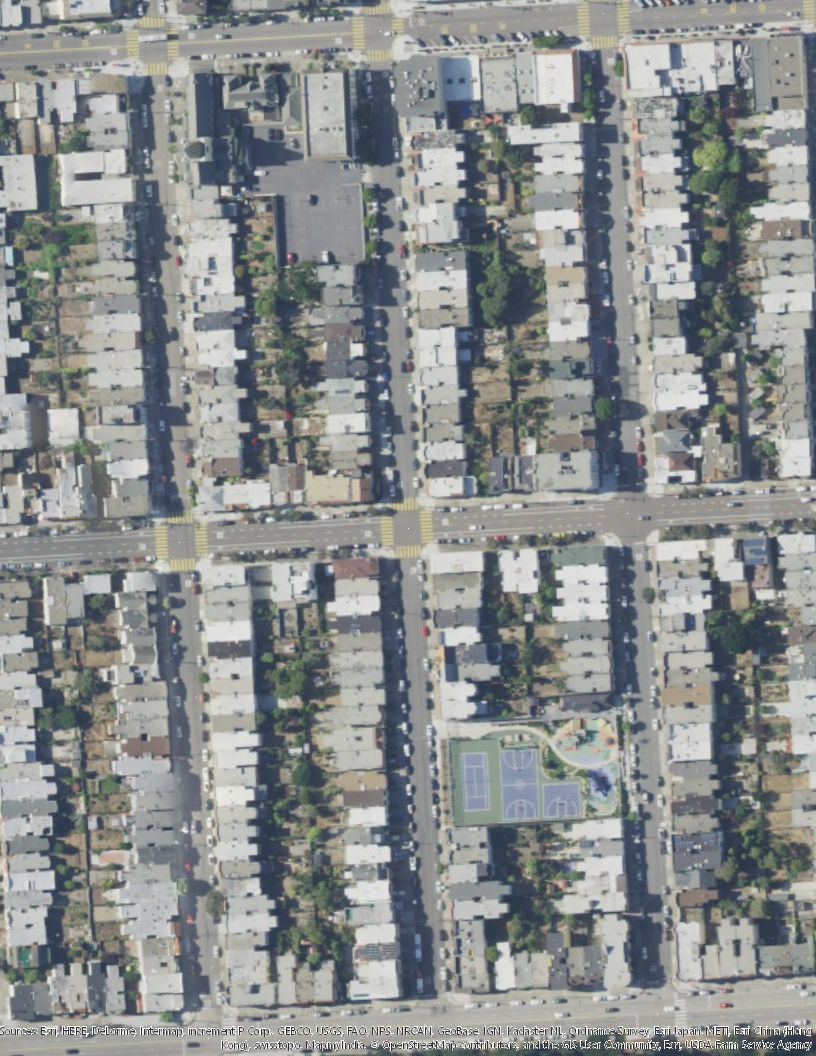zebracross: (193, 524, 210, 559), (575, 4, 592, 37), (615, 1, 631, 34), (419, 509, 434, 544), (380, 513, 395, 548), (154, 525, 169, 560), (351, 16, 365, 51), (674, 994, 687, 1029), (166, 27, 179, 61), (167, 509, 193, 526), (223, 1019, 236, 1051), (590, 36, 621, 49), (396, 544, 422, 558), (138, 14, 165, 27), (126, 30, 139, 57), (365, 1, 392, 14), (367, 48, 392, 62), (170, 558, 195, 572), (391, 498, 420, 510), (802, 1, 815, 24), (392, 17, 406, 34), (146, 62, 167, 73)
